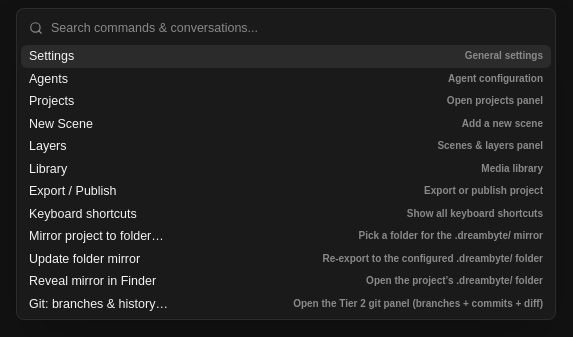
Test: CommandPalette — command mode (editor) › shows the no-results state when nothing matches
Type "zzz-no-such-command" into the field at [297, 28], box 51,21 -> 543,35
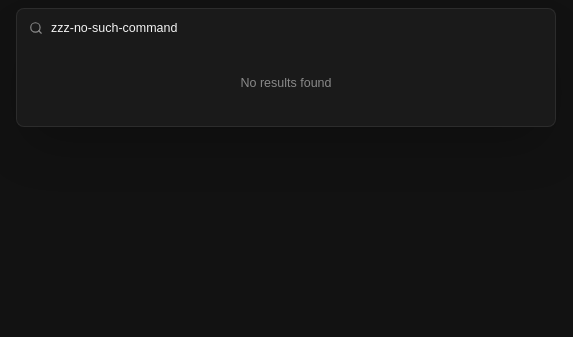
Expected: the text "No results found" is shown, 240,76 -> 332,90
